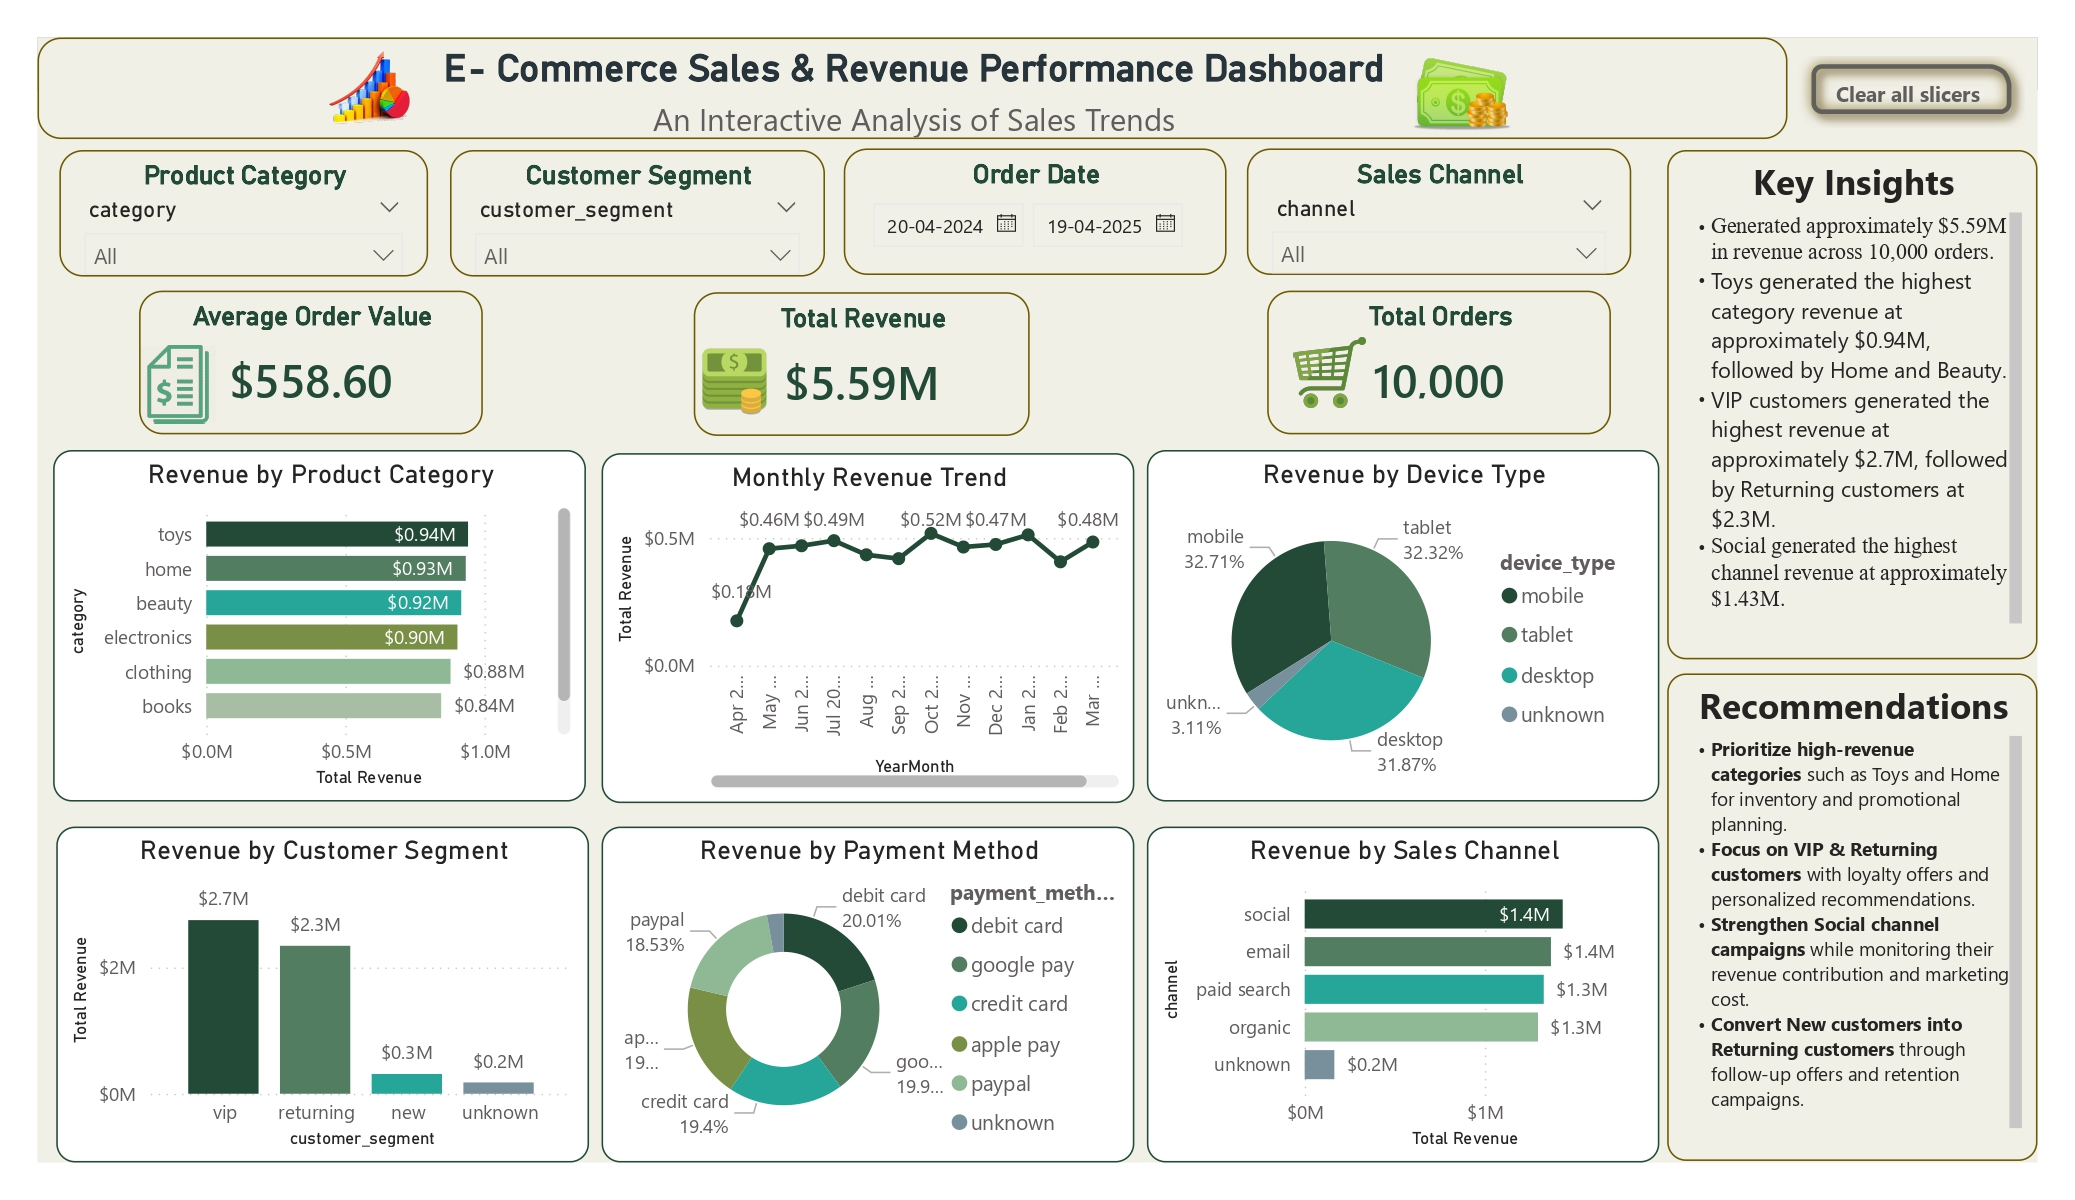

The dashboard page shown, as its layout file describes it:
{"tool":"powerbi","page":{"name":"Sales Performance","canvas":[1280,720],"ordinal":0},"visuals":[{"type":"cardVisual","title":"Total Revenue","fields":{"Data":["ECommerce.Total Revenue"]},"box":[419.8,162.5,214.7,92.2],"z":0,"group":"g3"},{"type":"clusteredBarChart","title":"Revenue by Product Category","fields":{"Category":["ECommerce.category"],"Y":["ECommerce.Total Revenue"]},"box":[9.6,264.3,341.3,224.3],"z":0},{"type":"cardVisual","title":"Total Orders","fields":{"Data":["ECommerce.Total Orders Display"]},"box":[787.3,162.4,220.2,92.2],"z":1000,"group":"g2"},{"type":"lineChart","title":"Monthly Revenue Trend","fields":{"Category":["ECommerce.YearMonth"],"Y":["ECommerce.Total Revenue"]},"box":[360.6,265.6,341.3,224.3],"z":1000},{"type":"cardVisual","title":"Average Order Value","fields":{"Data":["ECommerce.Average Order Value"]},"box":[64.7,162.4,220.2,92.2],"z":2000,"group":"g1"},{"type":"clusteredColumnChart","title":"Revenue by Customer Segment","fields":{"Category":["ECommerce.customer_segment"],"Y":["ECommerce.Total Revenue"]},"box":[12,505.1,341.3,214.7],"z":2000},{"type":"donutChart","title":"Revenue by Payment Method","fields":{"Category":["ECommerce.payment_method"],"Y":["ECommerce.Total Revenue"]},"box":[360.6,505.1,341.3,214.7],"z":3000},{"type":"clusteredBarChart","title":"Revenue by Sales Channel","fields":{"Category":["ECommerce.channel"],"Y":["ECommerce.Total Revenue"]},"box":[710.2,505.1,327.6,214.7],"z":4000},{"type":"pieChart","title":"Revenue by Device Type","fields":{"Category":["ECommerce.device_type"],"Y":["ECommerce.Total Revenue"]},"box":[710.2,264.3,327.6,224.3],"z":5000},{"type":"slicer","title":"Order Date","fields":{"Values":["ECommerce.order_date"]},"box":[516,71,245,81.2],"z":6000},{"type":"slicer","title":"Product Category","fields":{"Values":["ECommerce.category"]},"box":[13.8,71.6,236.7,81.2],"z":7000},{"type":"slicer","title":"Customer Segment","fields":{"Values":["ECommerce.customer_segment"]},"box":[264.3,71.6,239.5,81.2],"z":8000},{"type":"textbox","title":"E- Commerce Sales & Revenue Performance Dashboard","box":[0,0,1120.3,64.7],"z":9000,"group":"g4"},{"type":"slicer","title":"Sales Channel","fields":{"Values":["ECommerce.channel"]},"box":[773.9,71,246.4,81.2],"z":9000},{"type":"textbox","title":"Key Insights","box":[1042.5,71.8,237.5,325.9],"z":11000},{"type":"group","id":"g1","title":"Group 2","box":[64.7,162.4,220.2,92.2],"z":12000},{"type":"group","id":"g2","title":"Group 4","box":[787.3,162.4,220.2,92.2],"z":13000},{"type":"group","id":"g3","title":"Group 3","box":[419.8,159.7,214.7,119.7],"z":14000},{"type":"image","box":[419.8,159.7,52.3,119.7],"z":15003,"group":"g3"},{"type":"image","box":[64.7,189.9,49.5,64.7],"z":15005,"group":"g1"},{"type":"image","box":[803.8,180.3,46.8,68.8],"z":15006,"group":"g2"},{"type":"image","box":[854.5,2.8,115.2,64.7],"z":15011,"group":"g4"},{"type":"image","box":[166.3,8.3,92.4,48.2],"z":15011,"group":"g4"},{"type":"group","id":"g4","title":"Group 1","box":[0,0,1120.3,67.4],"z":15012},{"type":"textbox","title":"Recommendations","box":[1042.5,407.3,237.5,312.1],"z":15013},{"type":"actionButton","box":[1126,8,145.9,49.5],"z":15014}]}

Visuals, with their boxes on the page's 1280x720 design canvas (x1, y1, x2, y2). These are canvas units, not pixel positions in the 2075x1200 screenshot, which may show the page scaled, cropped or inside an application window:
"Total Revenue" cardVisual: {"x1": 420, "y1": 162, "x2": 634, "y2": 255}
"Revenue by Product Category" clusteredBarChart: {"x1": 10, "y1": 264, "x2": 351, "y2": 489}
"Total Orders" cardVisual: {"x1": 787, "y1": 162, "x2": 1008, "y2": 255}
"Monthly Revenue Trend" lineChart: {"x1": 361, "y1": 266, "x2": 702, "y2": 490}
"Average Order Value" cardVisual: {"x1": 65, "y1": 162, "x2": 285, "y2": 255}
"Revenue by Customer Segment" clusteredColumnChart: {"x1": 12, "y1": 505, "x2": 353, "y2": 720}
"Revenue by Payment Method" donutChart: {"x1": 361, "y1": 505, "x2": 702, "y2": 720}
"Revenue by Sales Channel" clusteredBarChart: {"x1": 710, "y1": 505, "x2": 1038, "y2": 720}
"Revenue by Device Type" pieChart: {"x1": 710, "y1": 264, "x2": 1038, "y2": 489}
"Order Date" slicer: {"x1": 516, "y1": 71, "x2": 761, "y2": 152}
"Product Category" slicer: {"x1": 14, "y1": 72, "x2": 250, "y2": 153}
"Customer Segment" slicer: {"x1": 264, "y1": 72, "x2": 504, "y2": 153}
"E- Commerce Sales & Revenue Performance Dashboard" textbox: {"x1": 0, "y1": 0, "x2": 1120, "y2": 65}
"Sales Channel" slicer: {"x1": 774, "y1": 71, "x2": 1020, "y2": 152}
"Key Insights" textbox: {"x1": 1042, "y1": 72, "x2": 1280, "y2": 398}
"Group 2" group: {"x1": 65, "y1": 162, "x2": 285, "y2": 255}
"Group 4" group: {"x1": 787, "y1": 162, "x2": 1008, "y2": 255}
"Group 3" group: {"x1": 420, "y1": 160, "x2": 634, "y2": 279}
image: {"x1": 420, "y1": 160, "x2": 472, "y2": 279}
image: {"x1": 65, "y1": 190, "x2": 114, "y2": 255}
image: {"x1": 804, "y1": 180, "x2": 851, "y2": 249}
image: {"x1": 854, "y1": 3, "x2": 970, "y2": 68}
image: {"x1": 166, "y1": 8, "x2": 259, "y2": 56}
"Group 1" group: {"x1": 0, "y1": 0, "x2": 1120, "y2": 67}
"Recommendations" textbox: {"x1": 1042, "y1": 407, "x2": 1280, "y2": 719}
actionButton: {"x1": 1126, "y1": 8, "x2": 1272, "y2": 58}
